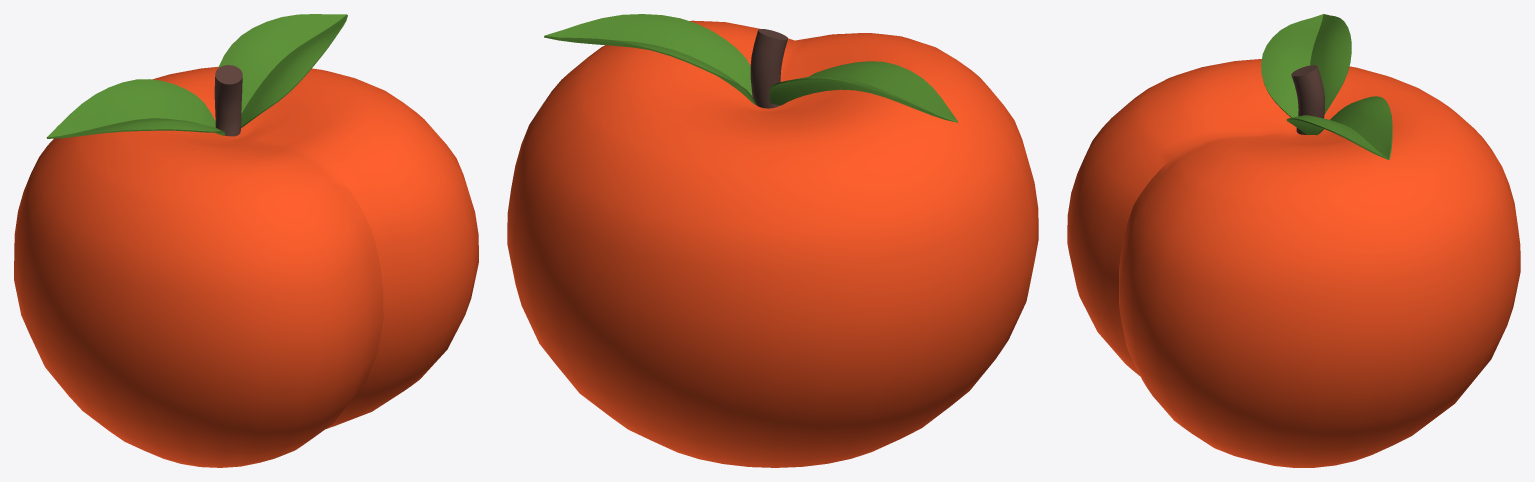
File: peach.glb
3 renders of one model, left to right at view 1: azimuth 30°, elevation 25°; view 2: azimuth 150°, elevation 25°; view 3: azimuth 270°, elevation 25°, orthographic. The views are drawn at different scales.
Parts seen in each view (by area): view 1: Sphere.475; view 2: Sphere.475; view 3: Sphere.475.
Boxes of the visible parts, box(x1,y1,x2,y2) form: Sphere.475: box(14, 14, 478, 467); Sphere.475: box(507, 14, 1038, 467); Sphere.475: box(1067, 14, 1520, 467).
Bounding box in the file's own units: 2.28 × 2.02 × 2.2.
Materials: 1 (1 with a texture image).
